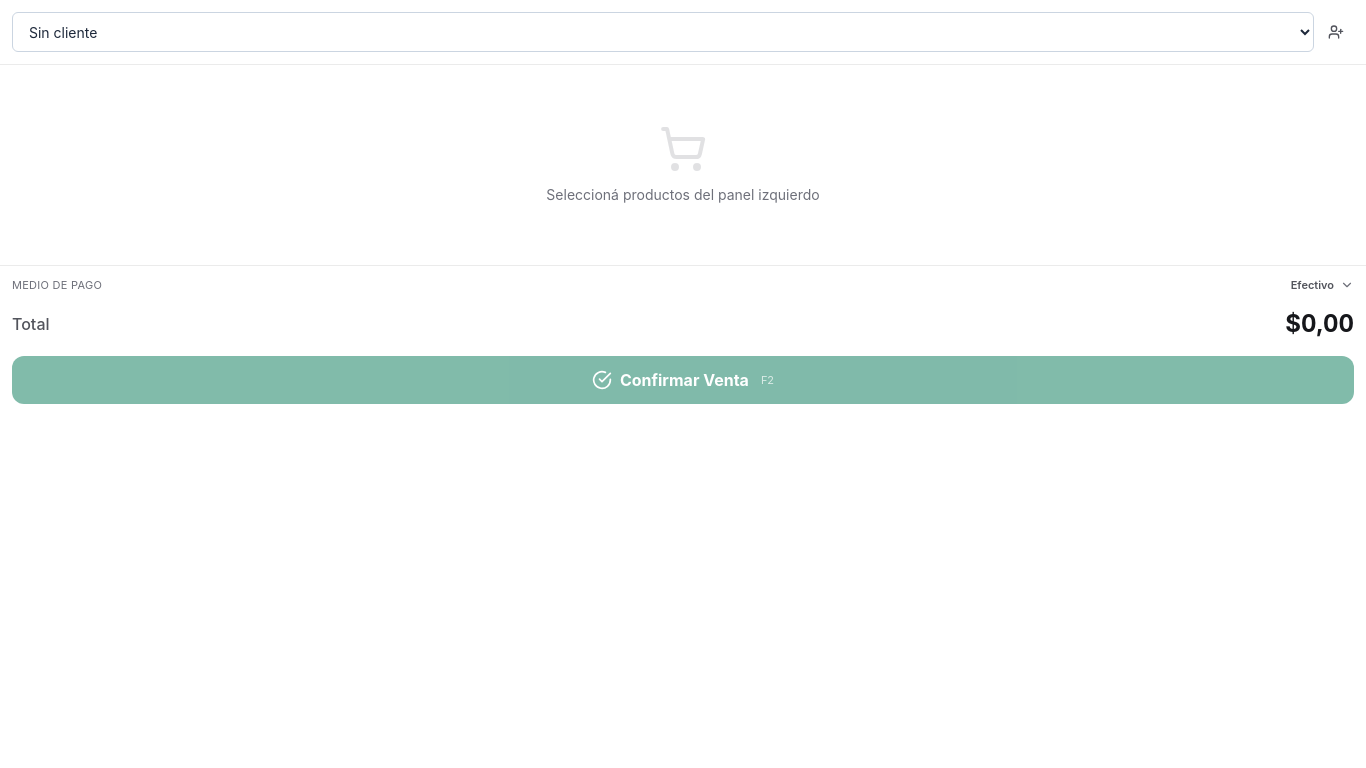
Test: PanelCarrito — medios de pago offline › online: ningún botón de medio de pago está deshabilitado
Click the button "Medio de pago Efectivo" at (57, 285), box 12,278 -> 1354,292
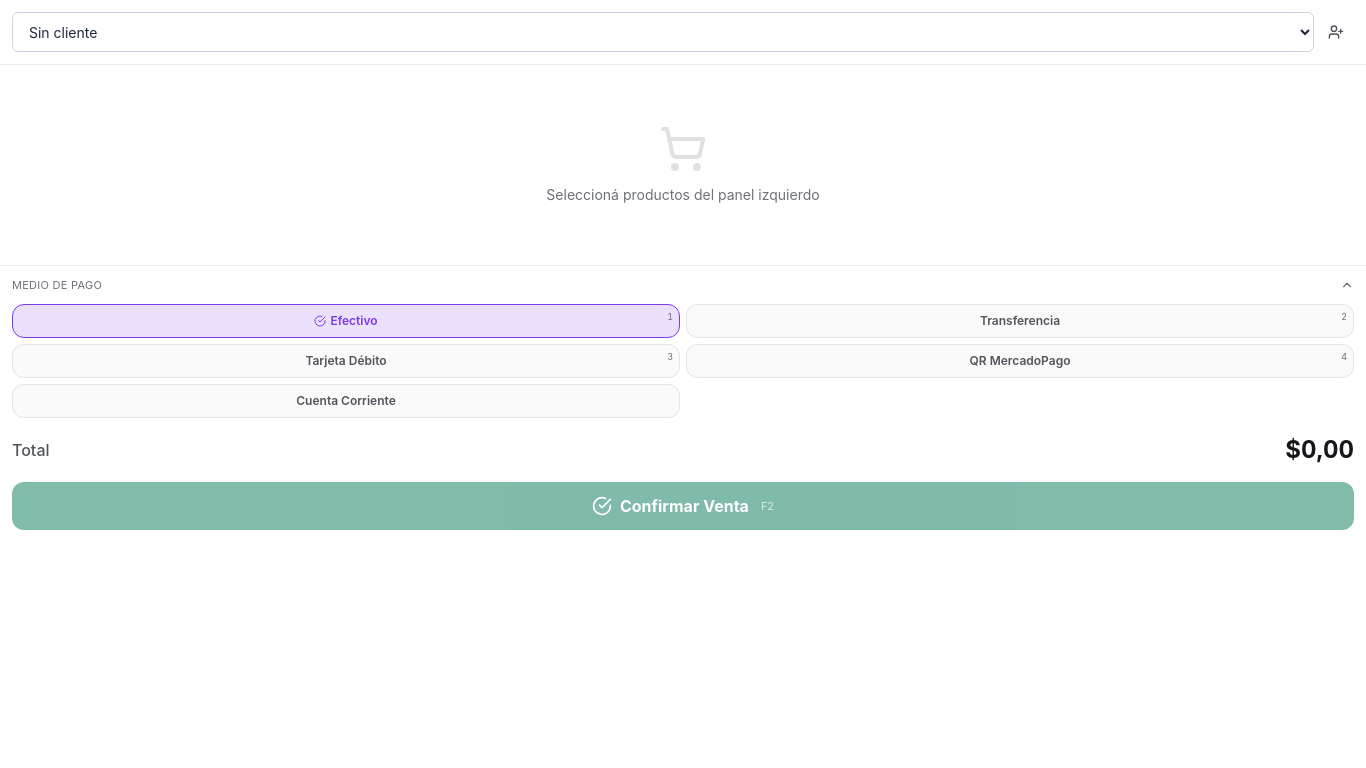
Now the button "1 Efectivo" is enabled, box 12,304 -> 680,338
Now the button "2 Transferencia" is enabled, box 686,304 -> 1354,338
Now the button "3 Tarjeta Débito" is enabled, box 12,344 -> 680,378
